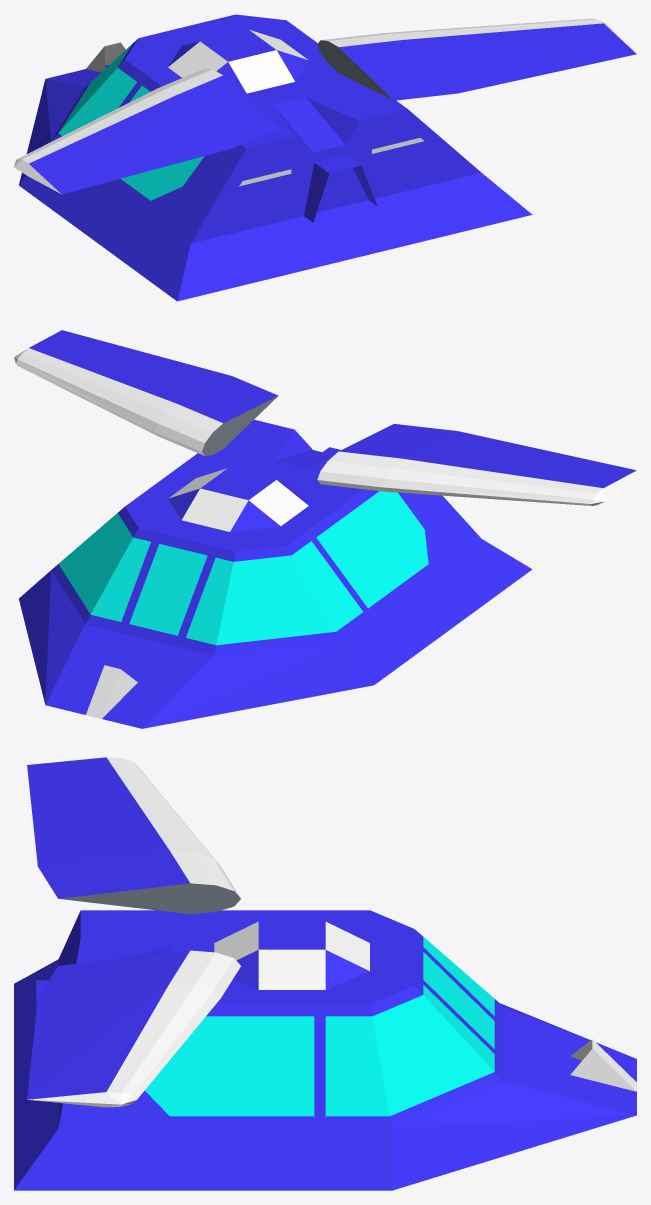
The model's file is player_02.FBX.
The picture shows the model from 3 angles, top to bottom: view 1: azimuth 30°, elevation 25°; view 2: azimuth 150°, elevation 25°; view 3: azimuth 270°, elevation 25°; orthographic projection. The views are drawn at different scales.
Visible parts, largest first — view 1: VIFS001, VIFS006, VIFS009, VIFS003, VIFS002, VIFS008, VIFS005, VIFS004; view 2: VIFS001, VIFS002, VIFS008, VIFS006, VIFS009, VIFS005, VIFS003, VIFS004; view 3: VIFS001, VIFS002, VIFS009, VIFS006, VIFS005, VIFS003, VIFS008, VIFS007.
Boxes of the visible parts, x1,y1,x2,y2 form: VIFS001: (19,14,532,301); VIFS006: (339,23,636,100); VIFS009: (29,75,278,194); VIFS003: (86,29,423,186); VIFS002: (58,43,204,200); VIFS008: (14,68,222,193); VIFS005: (321,18,635,52); VIFS004: (317,40,393,100); VIFS001: (19,419,532,728); VIFS002: (58,491,428,645); VIFS008: (317,451,636,505); VIFS006: (29,330,278,423); VIFS009: (339,424,636,488); VIFS005: (14,348,222,455); VIFS003: (86,468,308,718); VIFS004: (202,396,277,455); VIFS001: (14,910,636,1190); VIFS002: (145,937,494,1116); VIFS009: (27,757,189,898); VIFS006: (27,950,189,1099); VIFS005: (27,950,240,1107); VIFS003: (214,921,636,1091); VIFS008: (107,757,240,897); VIFS007: (58,883,240,914).
Size of the model in its own units: 1.14 by 0.2634 by 0.8733.
